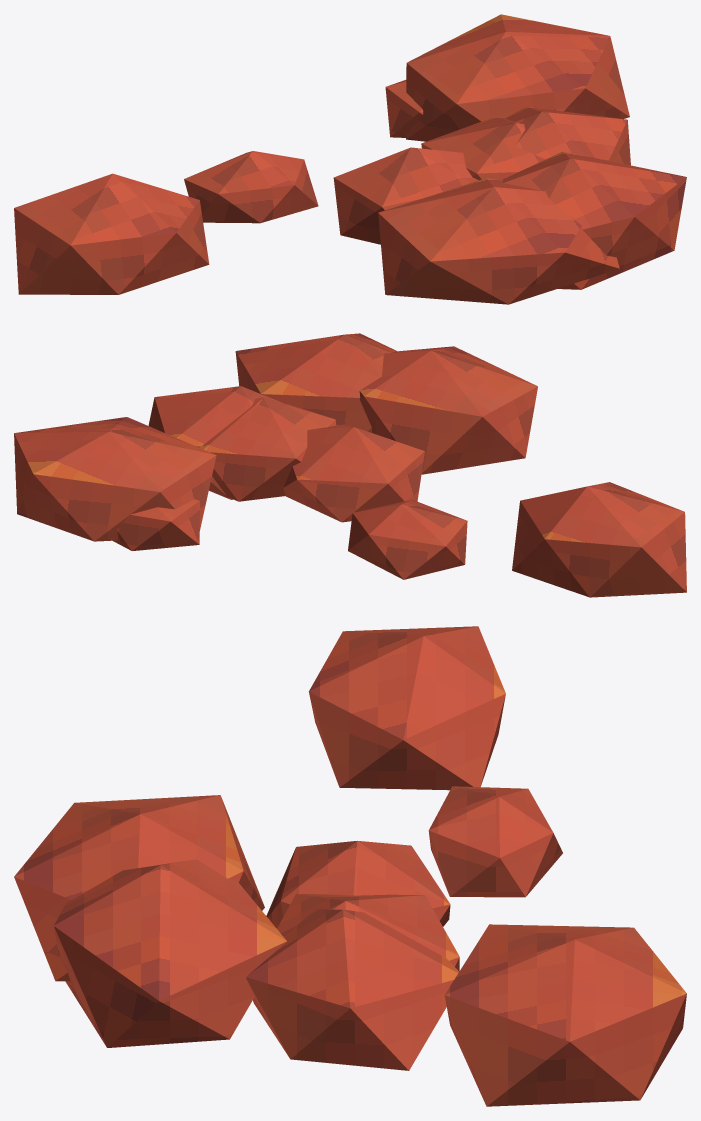
Rendered from desert_pebbles.glb.
3 views of the same model, one above another, from view 1: azimuth 30°, elevation 25°; view 2: azimuth 150°, elevation 25°; view 3: azimuth 270°, elevation 25° (orthographic). The views are drawn at different scales.
Visible parts, largest first — view 1: Pebbles; view 2: Pebbles; view 3: Pebbles.
Part boxes in pixels (left/top/right/bottom): Pebbles: left=14, top=14, right=686, bottom=304; Pebbles: left=14, top=333, right=686, bottom=597; Pebbles: left=14, top=626, right=686, bottom=1106.
Size of the model in its own units: 1.07 by 0.1534 by 0.726.
Materials: 1 (1 with a texture image).
